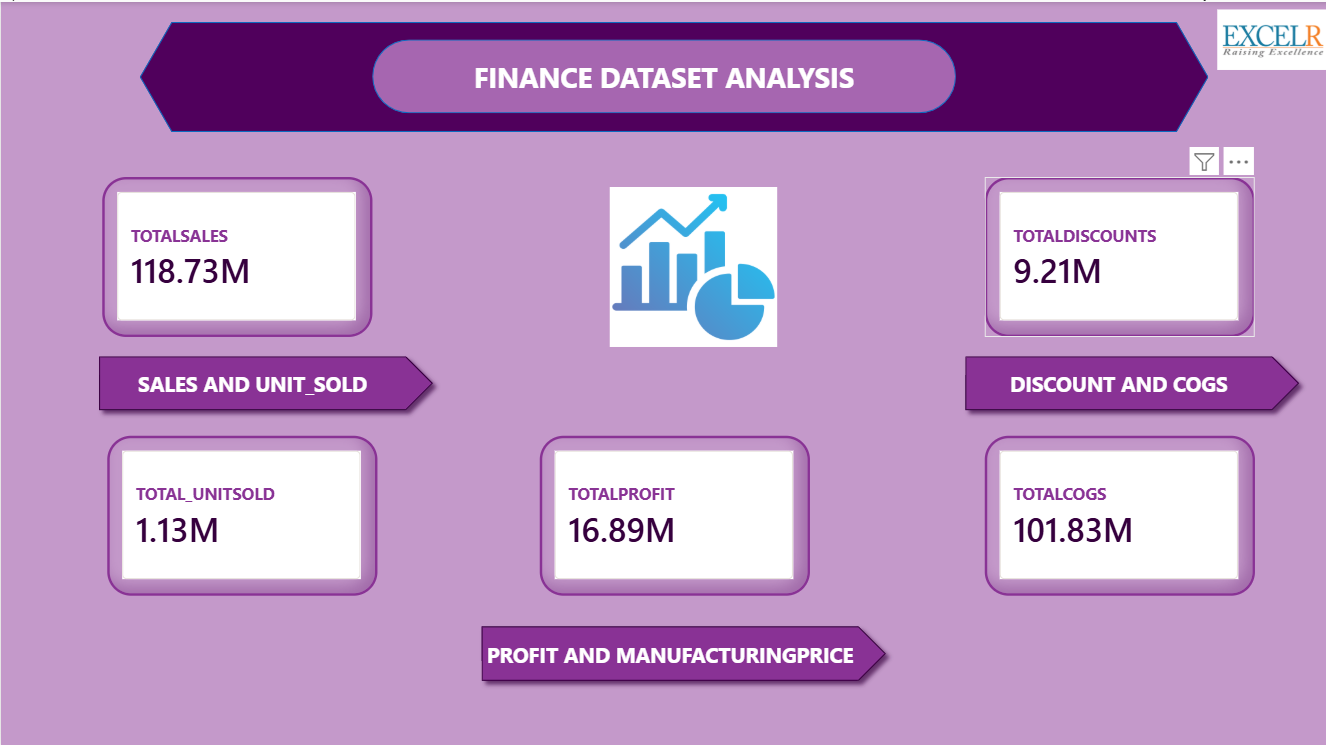

This screenshot's page, from the dashboard's own definition file:
{"tool":"powerbi","page":{"name":"Finance_Overview","canvas":[1280,720],"ordinal":0},"visuals":[{"type":"cardVisual","fields":{"Data":["financials.TOTALSALES"]},"box":[97.7,168.9,260.6,154.4],"z":0},{"type":"cardVisual","fields":{"Data":["financials.TOTALPROFIT"]},"box":[520,418.6,260.6,154.4],"z":1000},{"type":"cardVisual","fields":{"Data":["financials.TOTALCOGS"]},"box":[949.5,418.6,260.6,154.4],"z":2000},{"type":"cardVisual","fields":{"Data":["financials.TOTAL_UNITSOLD"]},"box":[102.5,418.6,260.6,154.4],"z":3000},{"type":"cardVisual","fields":{"Data":["financials.TOTALDISCOUNTS"]},"box":[949.5,168.9,260.6,154.4],"z":4000},{"type":"shape","box":[133.9,19.3,1031.5,106.2],"z":5000},{"type":"shape","box":[358.3,36.2,563.4,71.2],"z":6000},{"type":"shape","box":[85.7,333,340.2,70],"z":7000},{"type":"shape","box":[455.3,594.1,408.2,70.6],"z":8000},{"type":"shape","box":[921.7,333,340.2,70],"z":9000},{"type":"image","box":[454.8,178.6,188.2,154.4],"z":10000},{"type":"image","box":[1173.9,0,106.2,72.4],"z":11000},{"type":"image","box":[587.5,178.6,161.7,154.4],"z":12000}]}

Visuals, with their boxes in screenshot pixels (x1, y1, x2, y2), scaled from the page's 1280x720 canvas onto the 1326x745 screenshot:
cardVisual - financials.TOTALSALES: region(101, 175, 371, 335)
cardVisual - financials.TOTALPROFIT: region(539, 433, 809, 593)
cardVisual - financials.TOTALCOGS: region(984, 433, 1254, 593)
cardVisual - financials.TOTAL_UNITSOLD: region(106, 433, 376, 593)
cardVisual - financials.TOTALDISCOUNTS: region(984, 175, 1254, 335)
shape: region(139, 20, 1207, 130)
shape: region(371, 37, 955, 111)
shape: region(89, 345, 441, 417)
shape: region(472, 615, 895, 688)
shape: region(955, 345, 1307, 417)
image: region(471, 185, 666, 345)
image: region(1216, 0, 1325, 75)
image: region(609, 185, 776, 345)
